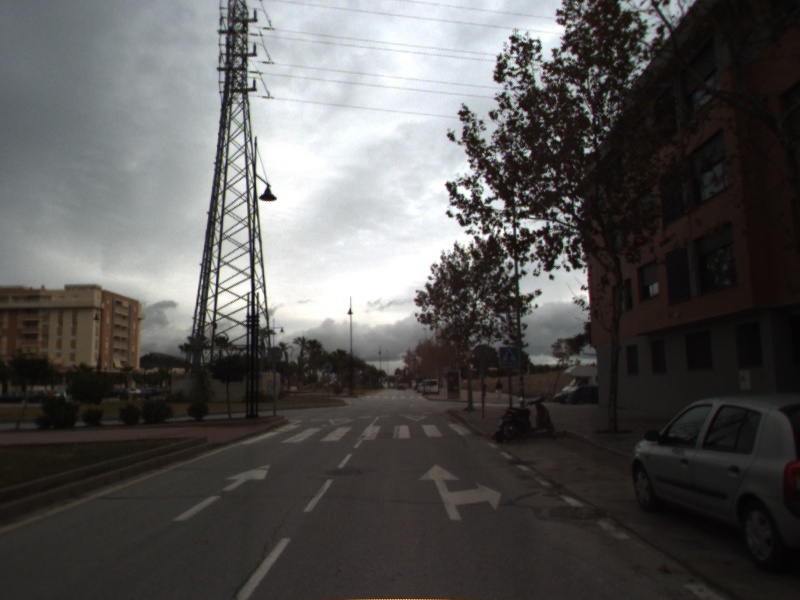STRAIGHT: (169, 462, 273, 524)
STRAIGHT_RIGHT: (415, 461, 503, 522)
